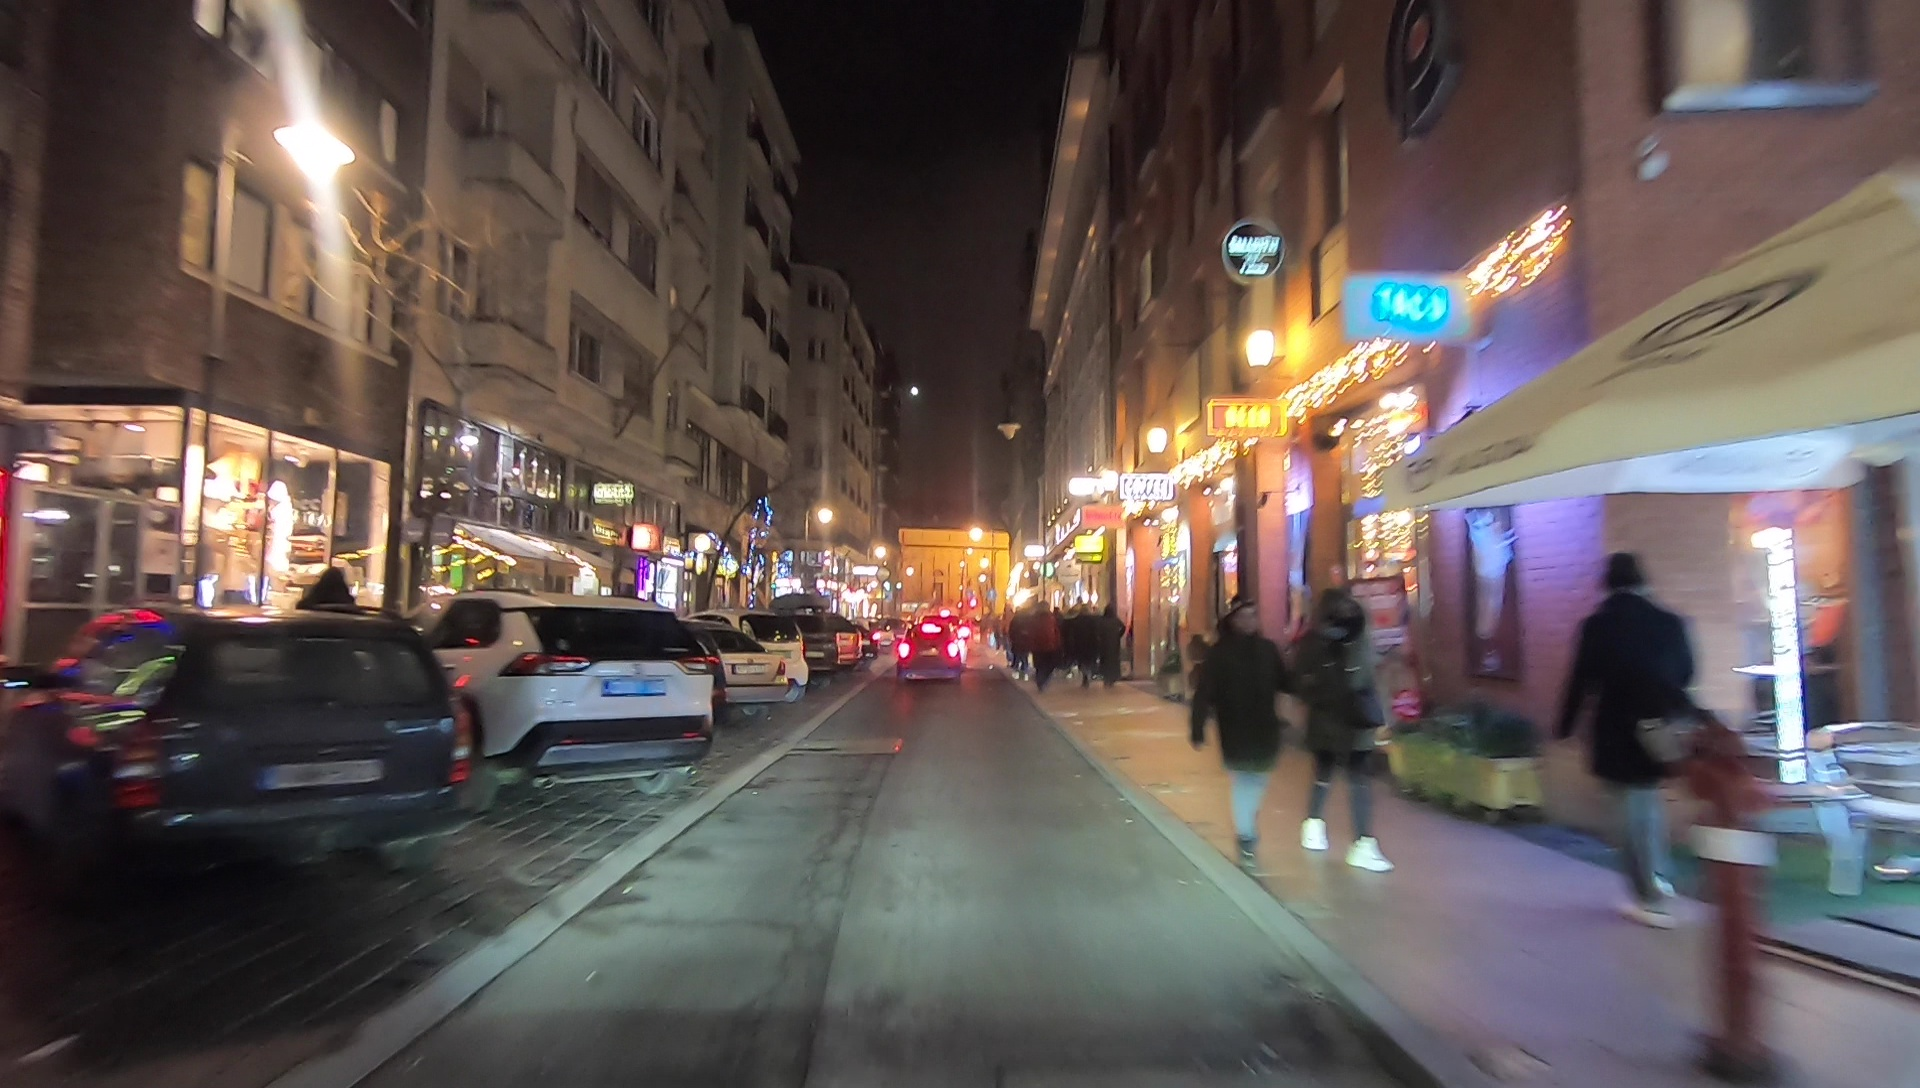person: (1567, 550, 1691, 917), (1293, 580, 1388, 873), (1197, 599, 1286, 869), (1027, 599, 1058, 690), (1073, 602, 1103, 683), (1101, 601, 1124, 683), (1009, 604, 1028, 668)
